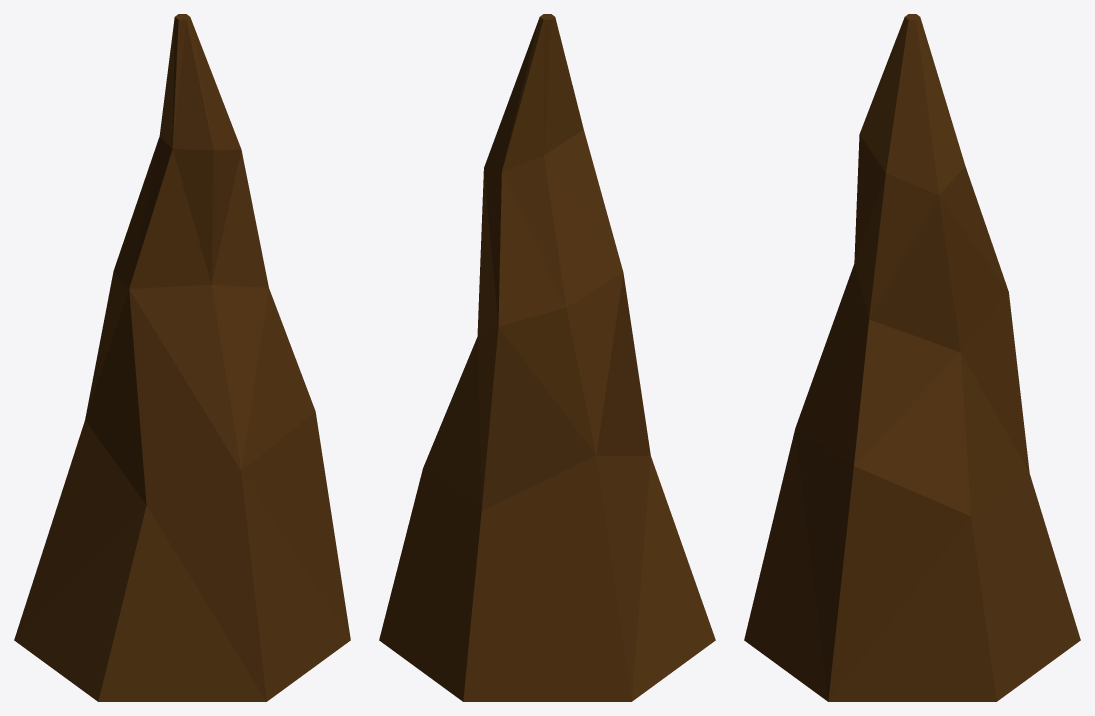
The model's file is stalagmite01.fbx.
The picture shows the model from 3 angles, left to right: view 1: azimuth 30°, elevation 25°; view 2: azimuth 150°, elevation 25°; view 3: azimuth 270°, elevation 25°; orthographic projection.
Visible parts, largest first — view 1: stalagmite; view 2: stalagmite; view 3: stalagmite.
Boxes of the visible parts, x1,y1,x2,y2 form: stalagmite: (14, 14, 350, 701); stalagmite: (379, 14, 715, 701); stalagmite: (744, 14, 1080, 701).
Size of the model in its own units: 2.49 by 5.87 by 2.87.
